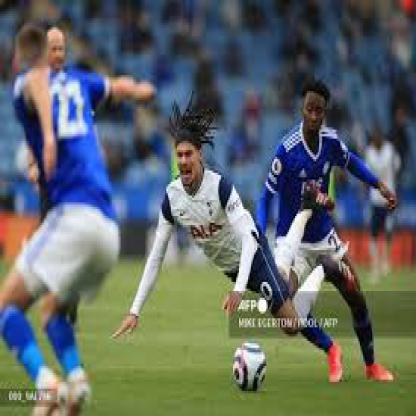Fall_Down: (102, 123, 358, 344)
